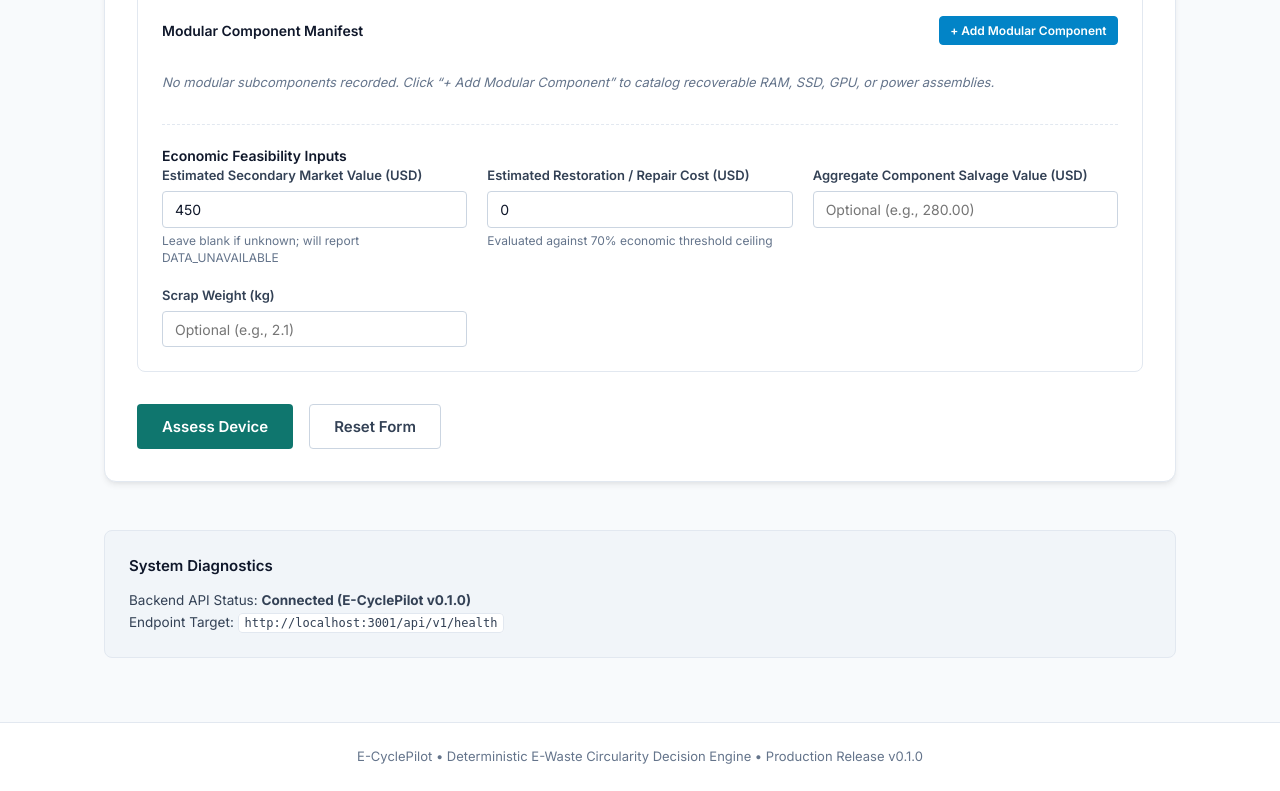
Test: Frontend-Backend Contract Parity & Regression Suite › renders backend validation error message when server returns HTTP 400
(page scrolled)
Click the button with test id "assess-submit-btn". click: (215, 427)
box: 137,404 -> 293,449
(page scrolled)
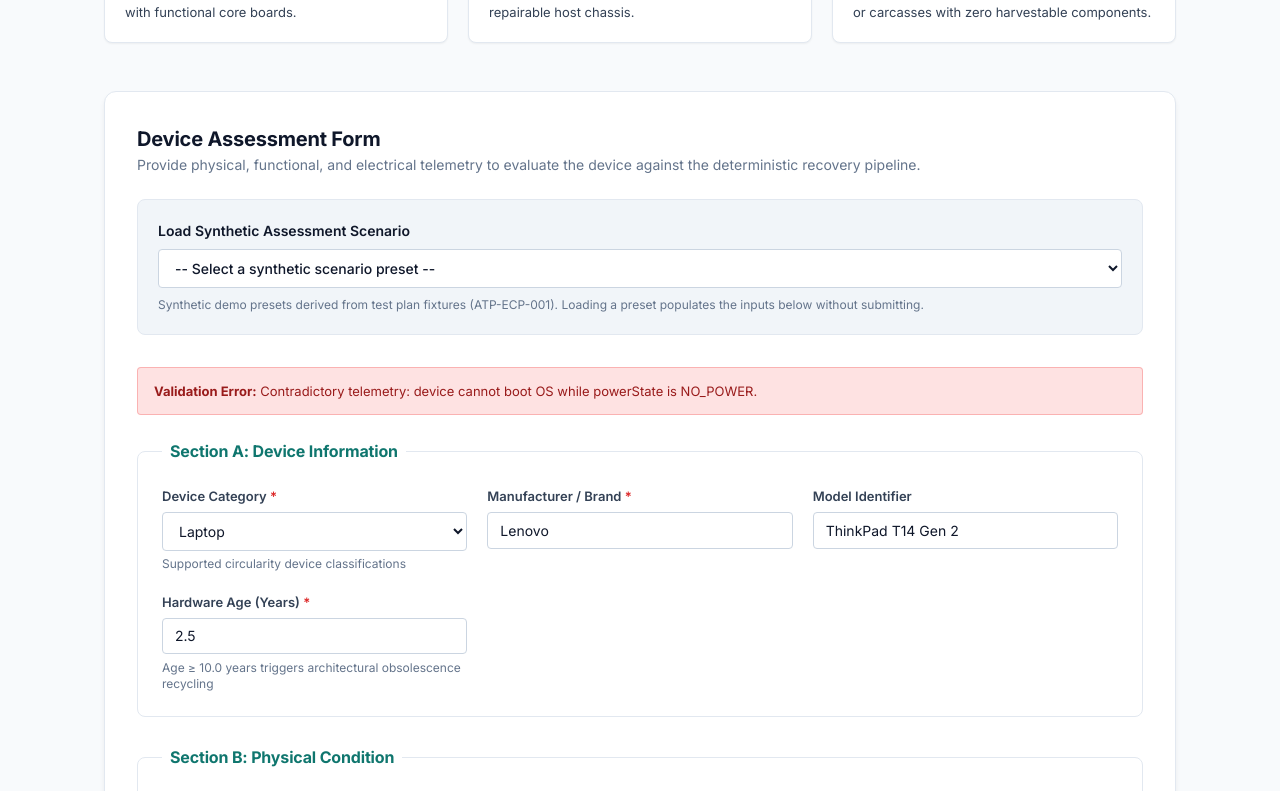
Expected: the message shows "Contradictory telemetry: device cannot boot OS while powerState is NO_POWER", 260,383 -> 757,399
